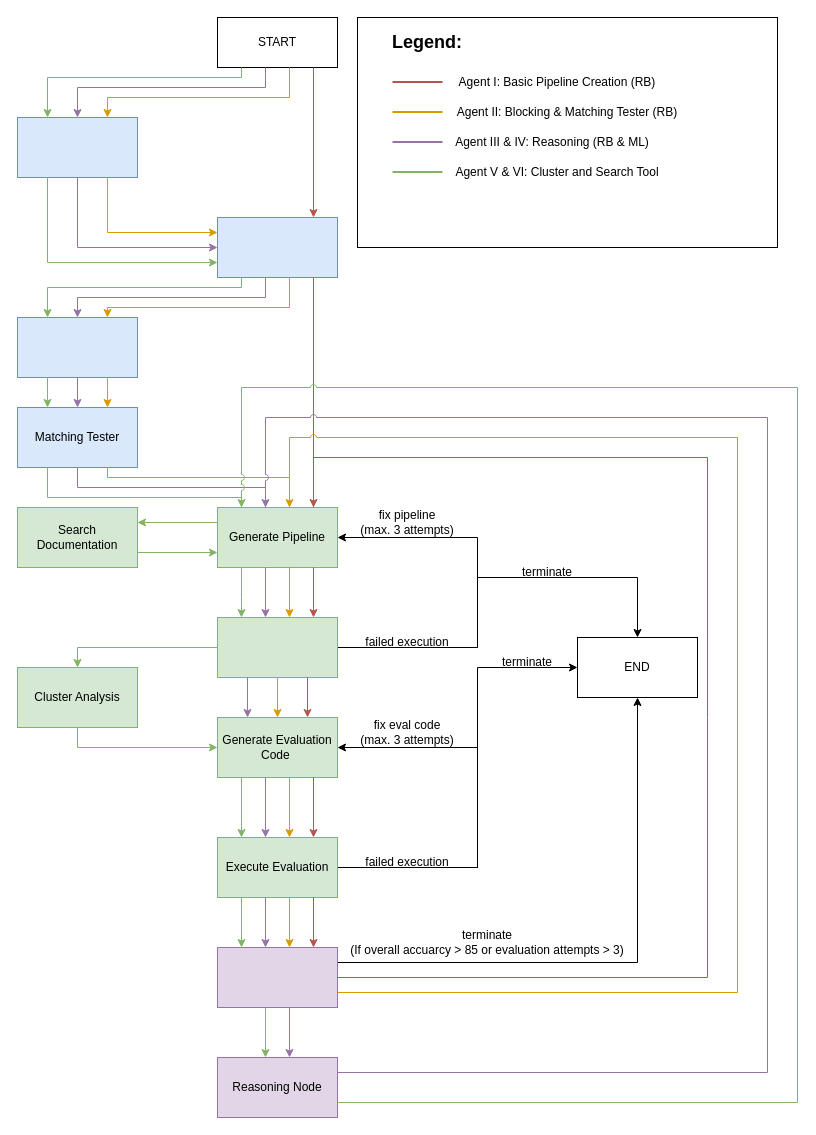
Image size: 816x1135. Some labels were removed from this diagram. The box of each missing label's shape, as (x1, y1, x2, y2) in pixels:
Blocking Tester: (16, 316, 138, 378)
Evaluation Decision: (216, 946, 338, 1008)
Execute Pipeline: (216, 616, 338, 678)
Match Schemas: (16, 116, 138, 178)
Profile Datasets: (216, 216, 338, 278)
